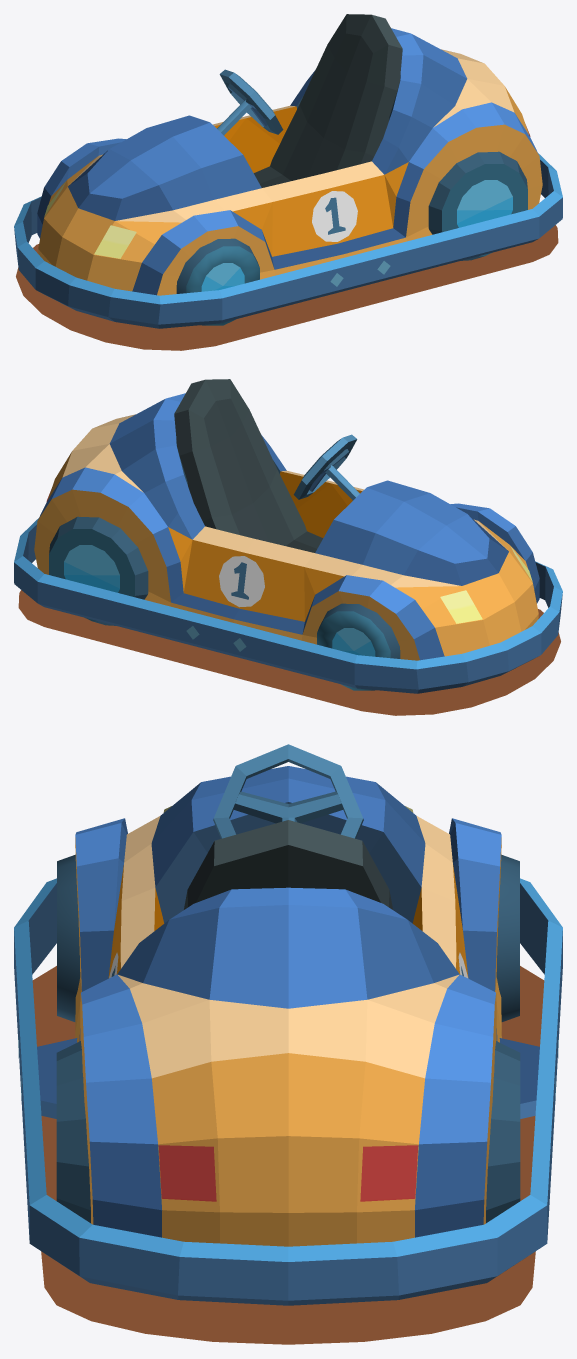
File: barrier_002.fbx
3 views of the same model, one above another, from view 1: azimuth 30°, elevation 25°; view 2: azimuth 150°, elevation 25°; view 3: azimuth 270°, elevation 25° (orthographic). The views are drawn at different scales.
Parts seen in each view (by area): view 1: barrier_003; view 2: barrier_003; view 3: barrier_003.
Part boxes in pixels (x1=…): barrier_003: x1=14, y1=14, x2=562, y2=350; barrier_003: x1=14, y1=379, x2=562, y2=715; barrier_003: x1=14, y1=744, x2=562, y2=1344.
Size of the model in its own units: 300 by 128 by 162.
